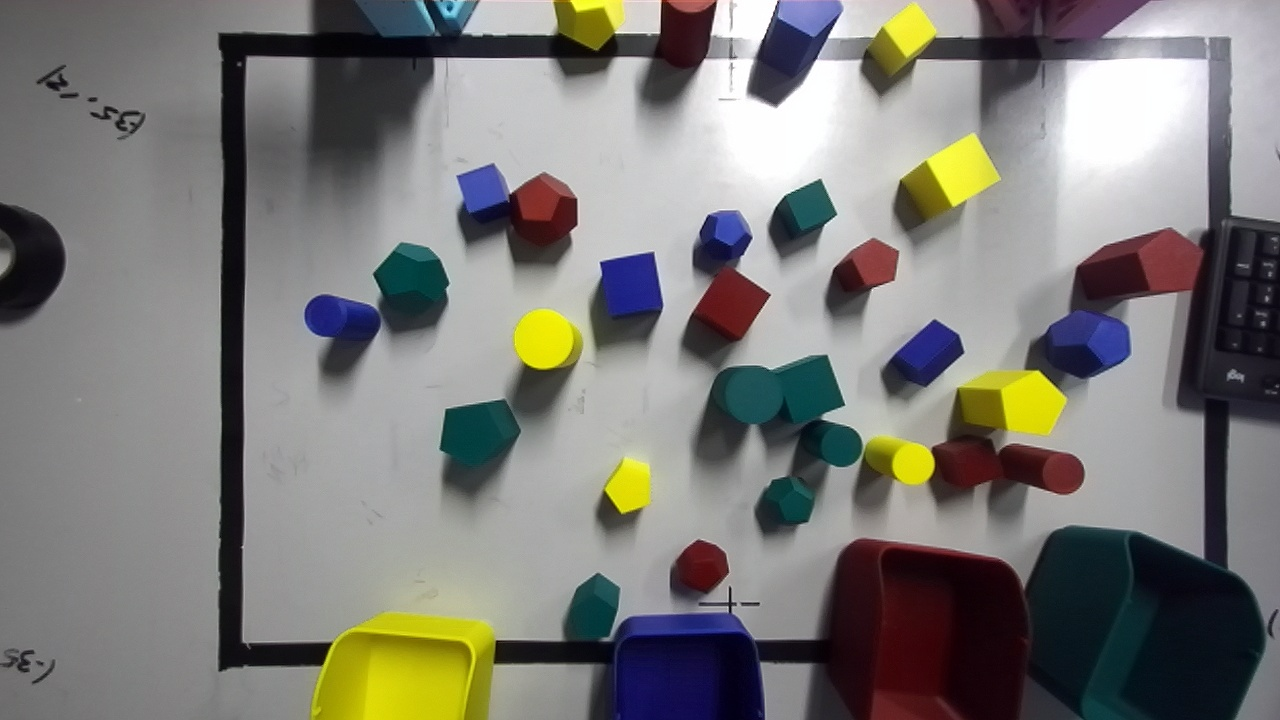bin: (1026, 526, 1265, 719), (828, 539, 1028, 719), (310, 612, 495, 719), (612, 615, 763, 719)
cube: (901, 133, 1000, 219), (691, 265, 769, 340), (867, 3, 936, 75), (772, 355, 844, 422), (600, 252, 662, 316), (772, 179, 836, 237), (931, 435, 1001, 488), (456, 163, 509, 222)
cylinder: (999, 443, 1083, 494), (710, 365, 782, 423), (513, 309, 582, 369), (657, 0, 715, 68), (304, 294, 380, 340), (864, 435, 934, 484), (800, 420, 862, 466)
dodecahedron: (1045, 310, 1130, 378), (373, 242, 449, 309), (510, 172, 577, 244), (554, 0, 623, 49), (672, 539, 728, 592), (698, 210, 752, 260), (761, 476, 814, 524)
hexagonal: (1076, 228, 1203, 299), (957, 370, 1065, 434), (758, 0, 842, 77), (439, 399, 520, 465), (888, 320, 963, 385), (565, 573, 619, 639), (831, 238, 898, 291), (604, 457, 649, 513)
